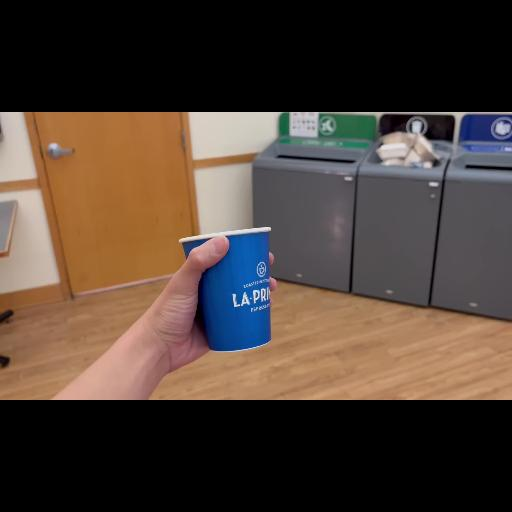lp_paper_cup: (172, 224, 294, 356)
